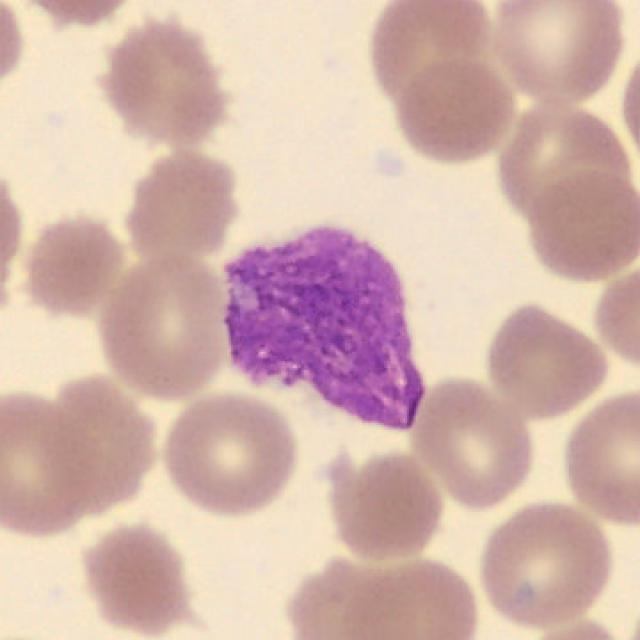Restos celulares: (224, 226, 427, 432)
